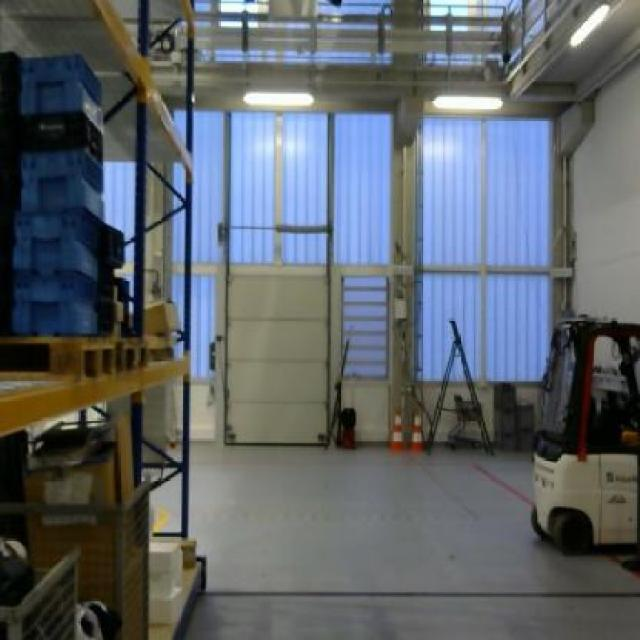box: (144, 298, 178, 337)
